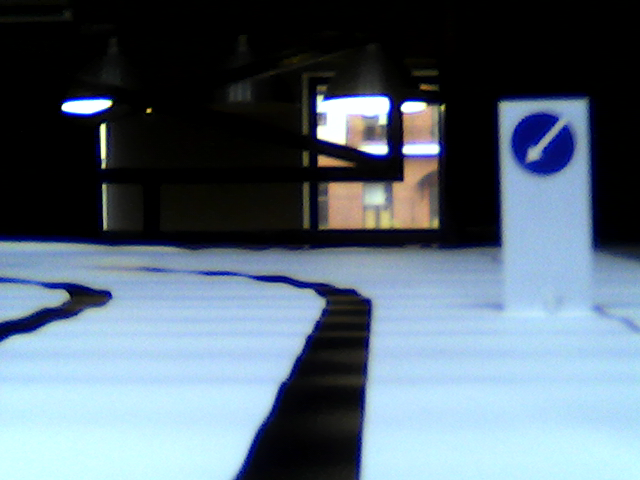prep: (509, 112, 575, 174)
